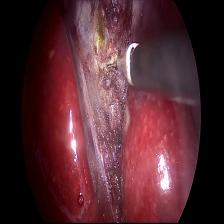Hook: (102, 43, 137, 90)
